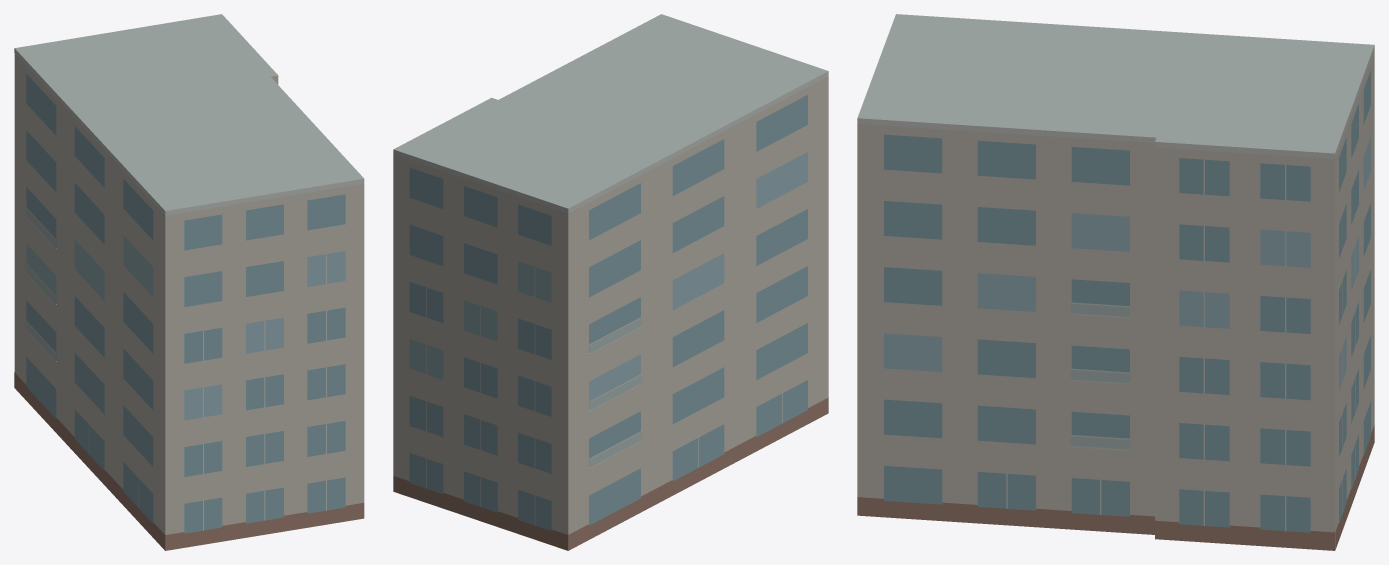
Rendered from survey-upis-33022752.glb.
3 renders of one model, left to right at view 1: azimuth 30°, elevation 25°; view 2: azimuth 150°, elevation 25°; view 3: azimuth 270°, elevation 25°, orthographic. The views are drawn at different scales.
Visible parts, largest first — view 1: survey-upis-33022752.tmp; view 2: survey-upis-33022752.tmp; view 3: survey-upis-33022752.tmp.
Part boxes in pixels (box(x1,y1,x2,y2)): survey-upis-33022752.tmp: box(14, 14, 364, 550); survey-upis-33022752.tmp: box(393, 14, 828, 550); survey-upis-33022752.tmp: box(857, 14, 1374, 550).
Bounding box in the file's own units: 12.96 × 17.2 × 20.3.
